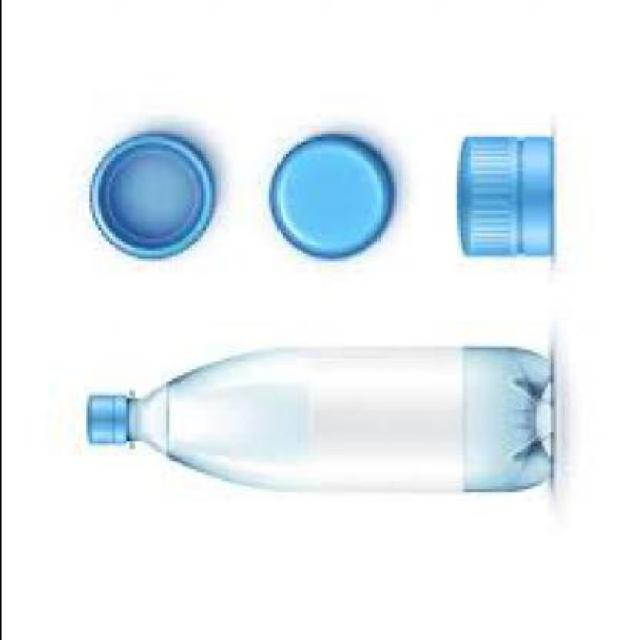PLASTIC: (85, 345, 549, 492), (84, 129, 210, 256), (264, 133, 390, 256), (456, 133, 550, 253), (82, 389, 128, 442)
